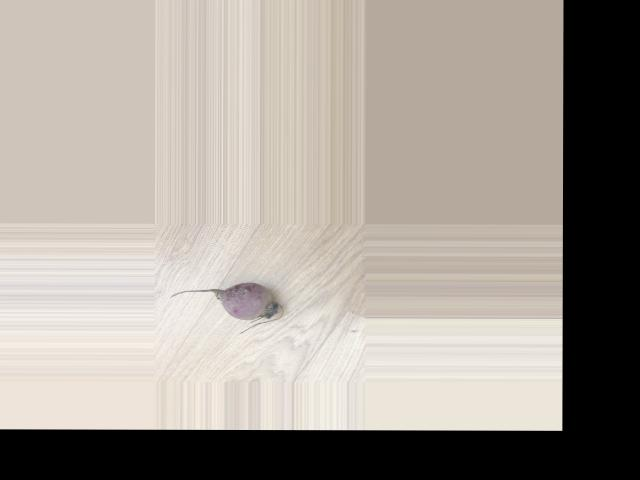beet: (169, 281, 283, 333)
